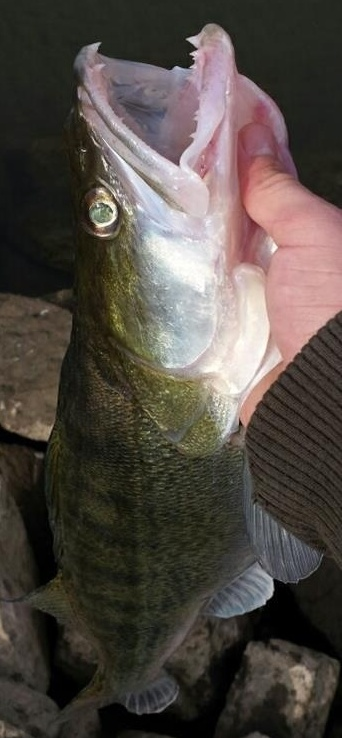Sander lucioperca: (20, 20, 322, 718)
